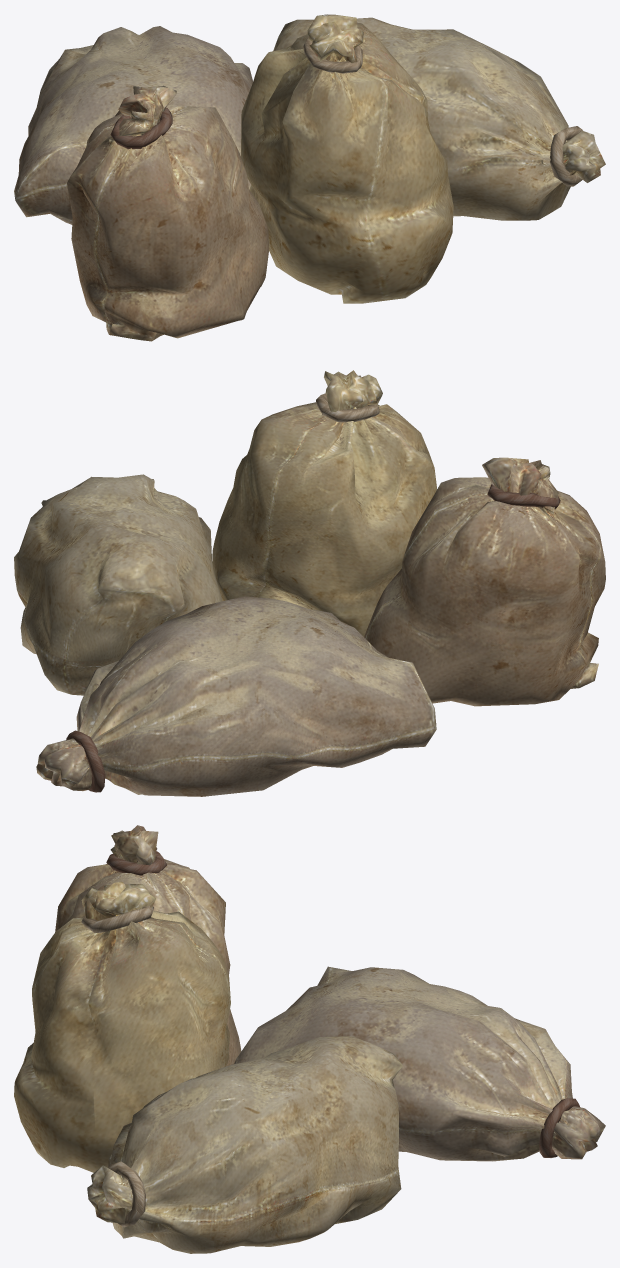
The model's file is SM_Fabric_Sack_Set1.FBX.
3 views of the same model, one above another, from view 1: azimuth 30°, elevation 25°; view 2: azimuth 150°, elevation 25°; view 3: azimuth 270°, elevation 25° (orthographic). The views are drawn at different scales.
Parts seen in each view (by area): view 1: FabricSackSet1; view 2: FabricSackSet1; view 3: FabricSackSet1.
Boxes of the visible parts, bbox=[...] form: FabricSackSet1: bbox=[14, 14, 605, 341]; FabricSackSet1: bbox=[14, 370, 605, 796]; FabricSackSet1: bbox=[14, 825, 605, 1253].
Bounding box in the file's own units: 157 × 75.77 × 157.
1 material, 1 textured.
